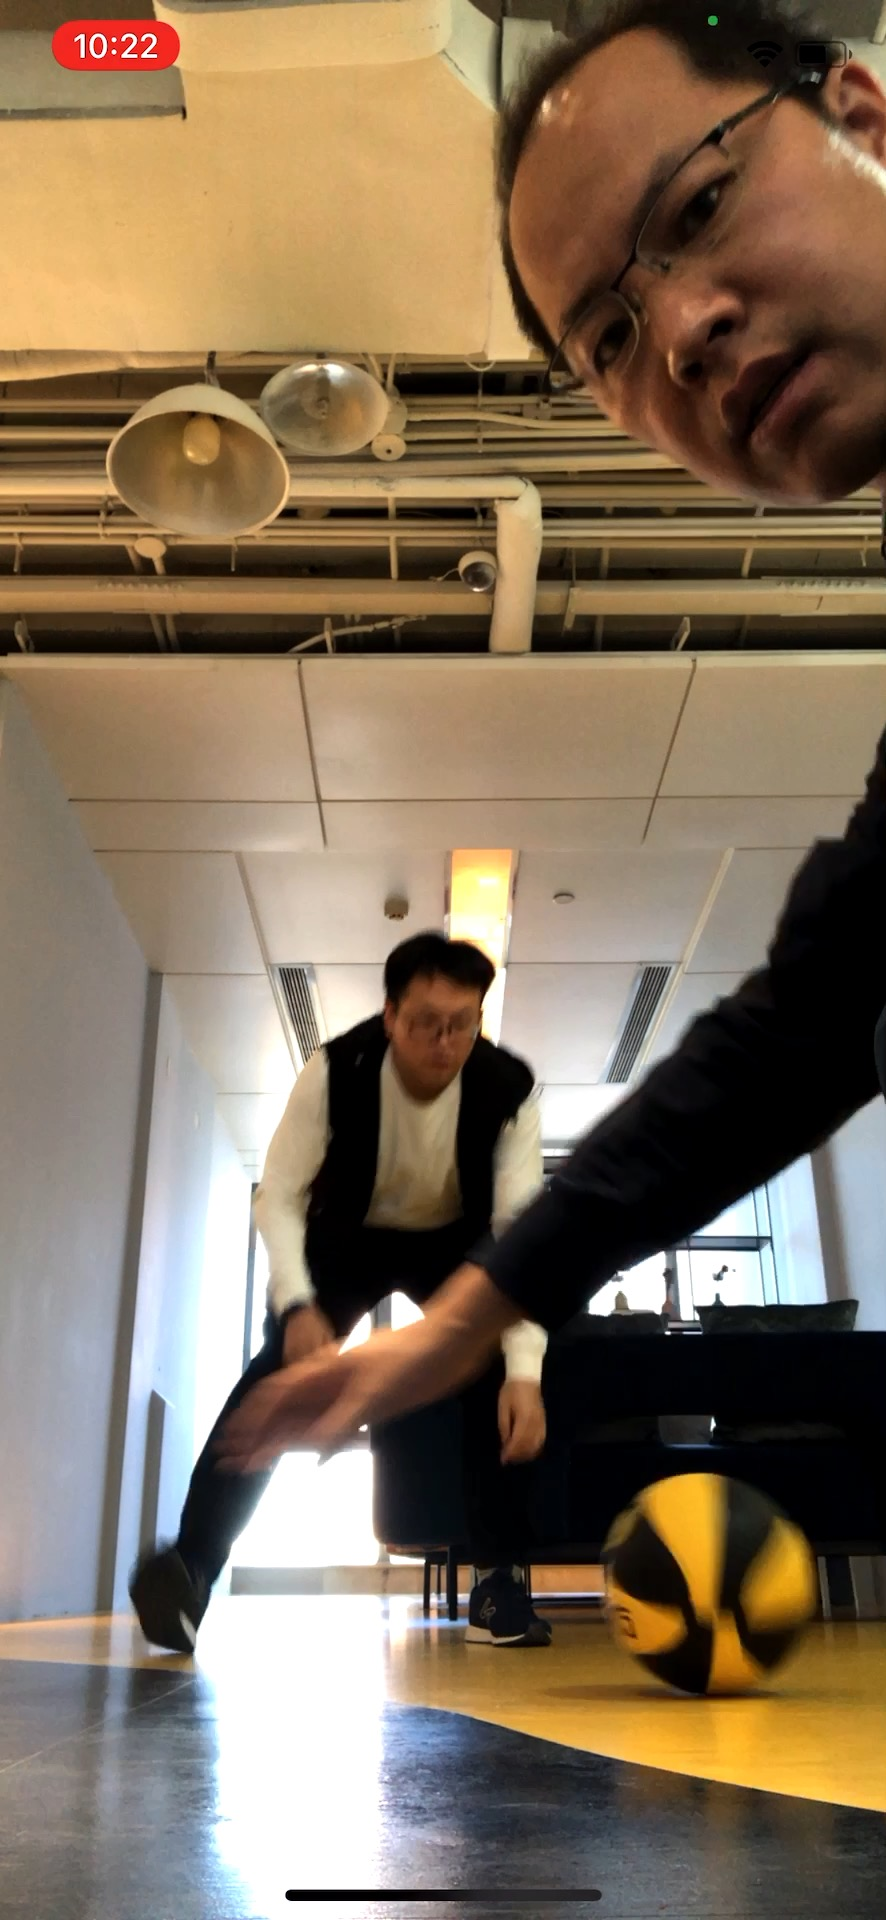ball: (600, 1469, 817, 1696)
